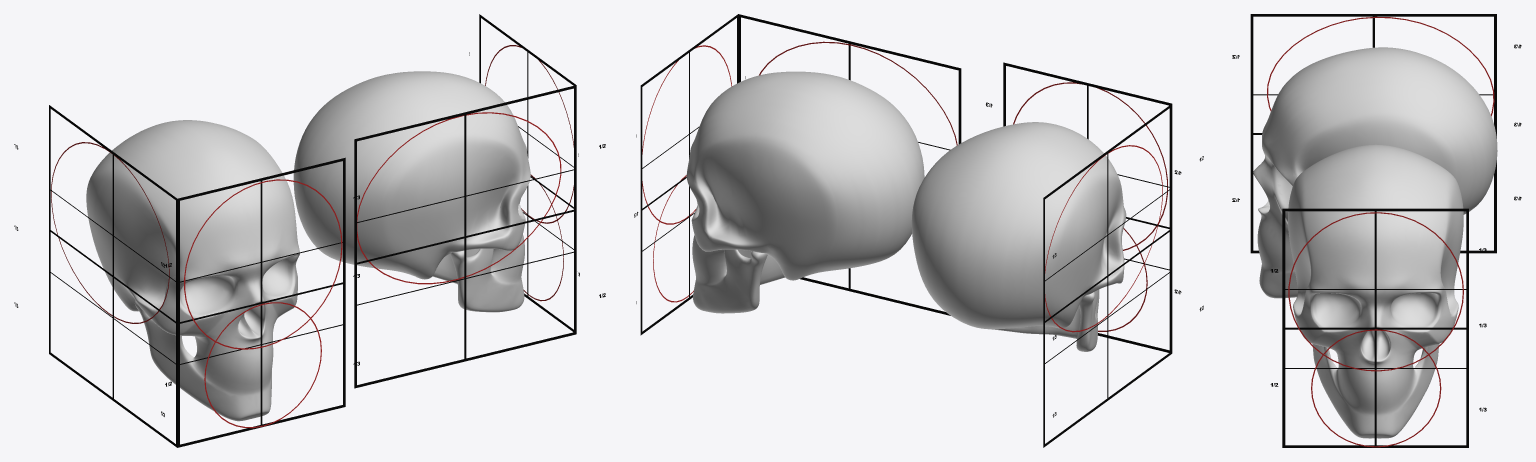
File: 头骨_skull_proportions.glb
The picture shows the model from 3 angles, left to right: view 1: azimuth 30°, elevation 25°; view 2: azimuth 150°, elevation 25°; view 3: azimuth 270°, elevation 25°; orthographic projection. The views are drawn at different scales.
Visible parts, largest first — view 1: Skull_Ratioobjcleanermaterialmergergles; view 2: Skull_Ratioobjcleanermaterialmergergles; view 3: Skull_Ratioobjcleanermaterialmergergles.
Part boxes in pixels (bbox=[...]): Skull_Ratioobjcleanermaterialmergergles: bbox=[14, 14, 605, 447]; Skull_Ratioobjcleanermaterialmergergles: bbox=[634, 14, 1203, 447]; Skull_Ratioobjcleanermaterialmergergles: bbox=[1232, 14, 1521, 447].
Bounding box in the file's own units: 0.7628 × 0.4 × 0.4385.
